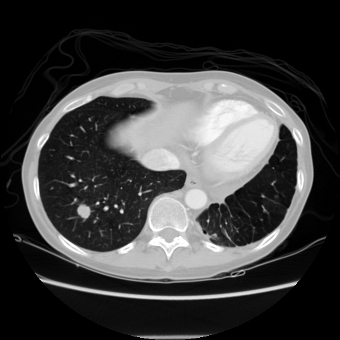nodule: (77, 204, 91, 218)
